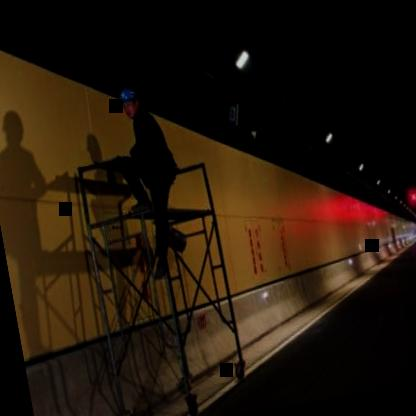helmet: (114, 81, 146, 129)
